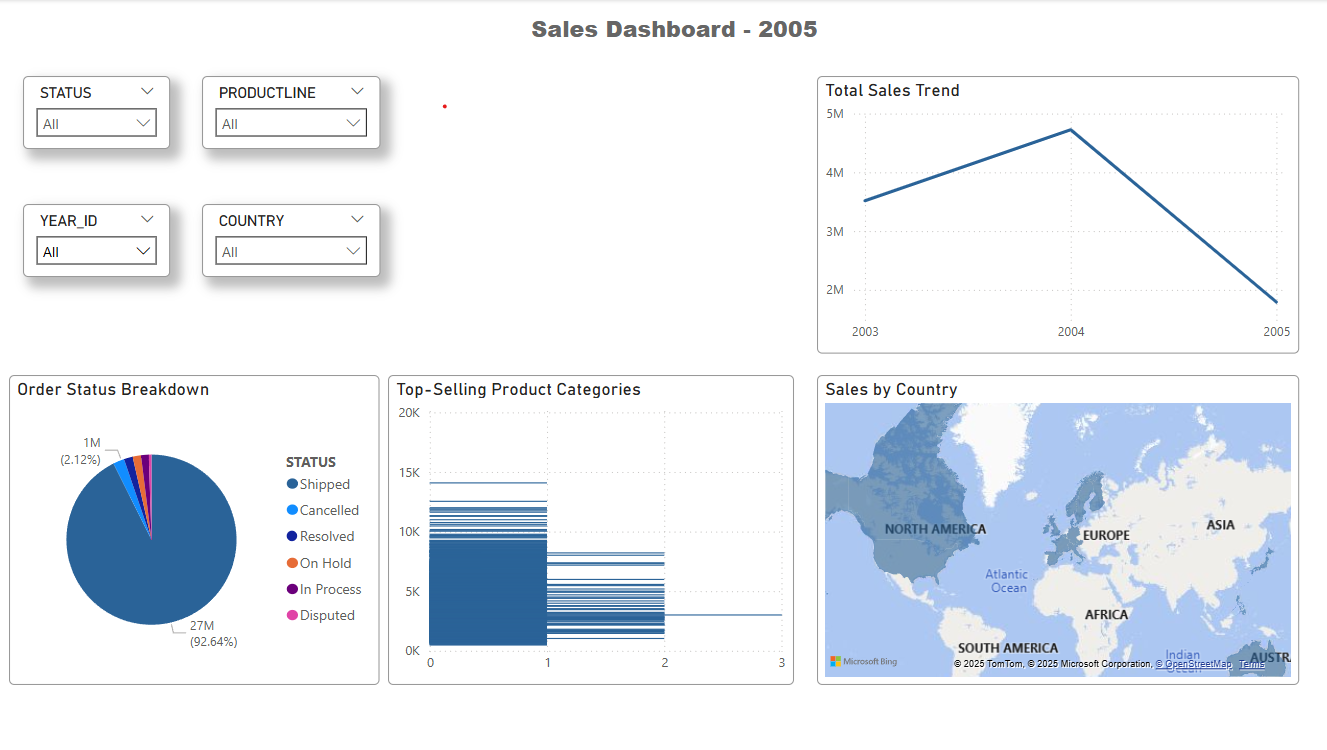

What the dashboard file says about the page in this screenshot:
{"tool":"powerbi","page":{"name":"Page 1","canvas":[1280,720],"ordinal":0},"visuals":[{"type":"lineChart","title":"Total Sales Trend","fields":{"Y":["Sum(sales_data_sample.SALES)"],"Category":["sales_data_sample.YEAR_ID"]},"box":[785.6,73.8,461.8,266.3],"z":0},{"type":"clusteredBarChart","title":"Top-Selling Product Categories","fields":{"Y":["CountNonNull(sales_data_sample.PRODUCTLINE)"],"Category":["sales_data_sample.SALES"]},"box":[374.6,360.2,389,297],"z":1000},{"type":"filledMap","title":"Sales by Country","fields":{"Category":["sales_data_sample.COUNTRY"]},"box":[785.6,360.2,461.8,297],"z":2000},{"type":"pieChart","title":"Order Status Breakdown","fields":{"Category":["sales_data_sample.STATUS"],"Y":["Sum(sales_data_sample.ORDERNUMBER)"]},"box":[11.5,360.2,355.4,297],"z":3000},{"type":"slicer","fields":{"Values":["sales_data_sample.YEAR_ID"]},"box":[24.9,196.4,140.8,69.9],"z":4000},{"type":"slicer","fields":{"Values":["sales_data_sample.PRODUCTLINE"]},"box":[196.4,73.8,170.5,69.9],"z":5000},{"type":"slicer","fields":{"Values":["sales_data_sample.COUNTRY"]},"box":[196.4,196.4,170.5,69.9],"z":6000},{"type":"slicer","fields":{"Values":["sales_data_sample.STATUS"]},"box":[24.9,73.8,140.8,69.9],"z":7000},{"type":"textbox","box":[506.8,8.6,298.9,45],"z":8000}]}

Visuals, with their boxes in screenshot pixels (x1, y1, x2, y2), scaled from the page's 1280x720 canvas onto the 1327x750 screenshot:
"Total Sales Trend" lineChart: x1=814, y1=77, x2=1293, y2=354
"Top-Selling Product Categories" clusteredBarChart: x1=388, y1=375, x2=792, y2=685
"Sales by Country" filledMap: x1=814, y1=375, x2=1293, y2=685
"Order Status Breakdown" pieChart: x1=12, y1=375, x2=380, y2=685
slicer - sales_data_sample.YEAR_ID: x1=26, y1=205, x2=172, y2=277
slicer - sales_data_sample.PRODUCTLINE: x1=204, y1=77, x2=380, y2=150
slicer - sales_data_sample.COUNTRY: x1=204, y1=205, x2=380, y2=277
slicer - sales_data_sample.STATUS: x1=26, y1=77, x2=172, y2=150
textbox: x1=525, y1=9, x2=835, y2=56
